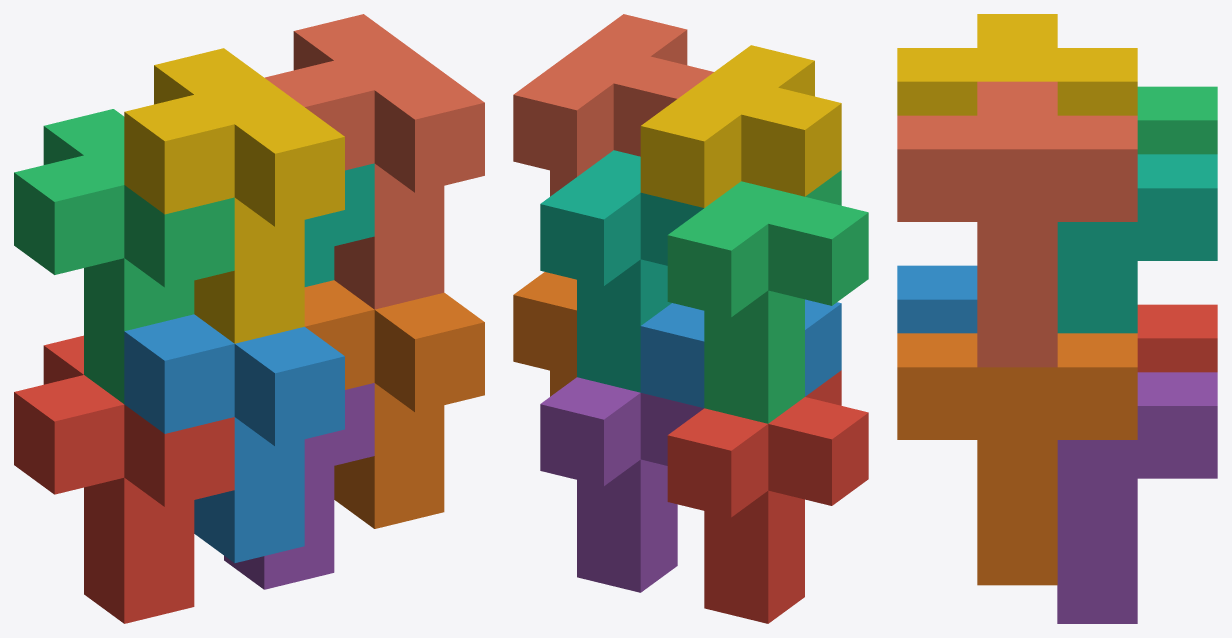
File: tiling.obj
The picture shows the model from 3 angles, left to right: view 1: azimuth 30°, elevation 25°; view 2: azimuth 150°, elevation 25°; view 3: azimuth 270°, elevation 25°; orthographic projection. The views are drawn at different scales.
Parts seen in each view (by area): view 1: copy_1_domain_4, copy_1_domain_1, copy_1_domain_8, copy_1_domain_2, copy_1_domain_3, copy_1_domain_6, copy_1_domain_5, copy_1_domain_7; view 2: copy_1_domain_3, copy_1_domain_1, copy_1_domain_4, copy_1_domain_5, copy_1_domain_7, copy_1_domain_8, copy_1_domain_2, copy_1_domain_6; view 3: copy_1_domain_8, copy_1_domain_6, copy_1_domain_5, copy_1_domain_7, copy_1_domain_4, copy_1_domain_1, copy_1_domain_2, copy_1_domain_3.
Boxes of the visible parts, left/top/right/bottom form: copy_1_domain_4: left=124, top=48, right=344, bottom=343; copy_1_domain_1: left=14, top=335, right=234, bottom=623; copy_1_domain_8: left=264, top=14, right=484, bottom=309; copy_1_domain_2: left=124, top=314, right=344, bottom=562; copy_1_domain_3: left=14, top=109, right=234, bottom=403; copy_1_domain_6: left=304, top=280, right=484, bottom=528; copy_1_domain_5: left=224, top=383, right=374, bottom=589; copy_1_domain_7: left=304, top=163, right=374, bottom=286; copy_1_domain_3: left=667, top=170, right=868, bottom=423; copy_1_domain_1: left=667, top=370, right=868, bottom=623; copy_1_domain_4: left=640, top=45, right=841, bottom=207; copy_1_domain_5: left=540, top=377, right=703, bottom=592; copy_1_domain_7: left=540, top=150, right=703, bottom=392; copy_1_domain_8: left=513, top=14, right=713, bottom=196; copy_1_domain_2: left=640, top=299, right=841, bottom=407; copy_1_domain_6: left=513, top=272, right=576, bottom=396; copy_1_domain_8: left=897, top=81, right=1137, bottom=367; copy_1_domain_6: left=897, top=333, right=1137, bottom=585; copy_1_domain_5: left=1057, top=372, right=1217, bottom=623; copy_1_domain_7: left=1057, top=154, right=1217, bottom=333; copy_1_domain_4: left=897, top=14, right=1137, bottom=115; copy_1_domain_1: left=1137, top=304, right=1217, bottom=372; copy_1_domain_2: left=897, top=265, right=977, bottom=333; copy_1_domain_3: left=1137, top=86, right=1217, bottom=154.
Bounding box in the file's own units: 5 × 7 × 4.
